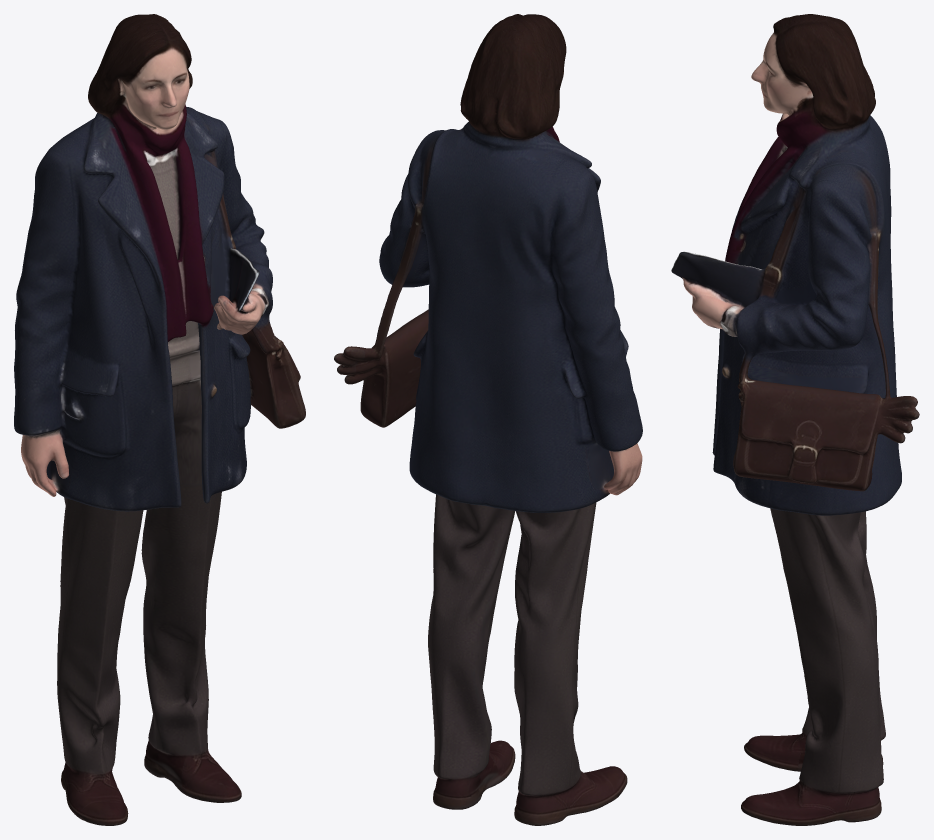
The model's file is mara_keller_3d_1.glb.
The picture shows the model from 3 angles, left to right: view 1: azimuth 30°, elevation 25°; view 2: azimuth 150°, elevation 25°; view 3: azimuth 270°, elevation 25°; orthographic projection.
Size of the model in its own units: 0.6704 by 1.9 by 0.5495.
1 material, 1 textured.
